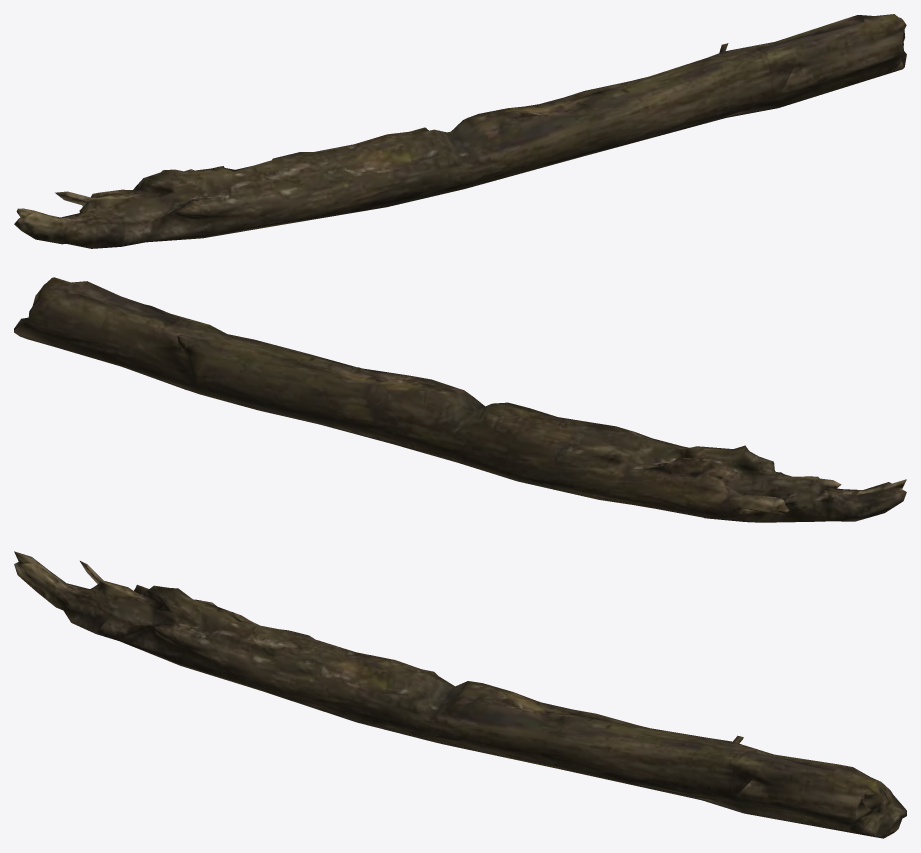
Rendered from logDead_lo.glb.
3 renders of one model, top to bottom at view 1: azimuth 30°, elevation 25°; view 2: azimuth 150°, elevation 25°; view 3: azimuth 330°, elevation 25°, orthographic.
Visible parts, largest first — view 1: dead_tree_trunk; view 2: dead_tree_trunk; view 3: dead_tree_trunk.
Boxes of the visible parts, bbox=[...] form: dead_tree_trunk: bbox=[14, 14, 906, 248]; dead_tree_trunk: bbox=[14, 277, 906, 522]; dead_tree_trunk: bbox=[14, 551, 906, 838].
Size of the model in its own units: 3.04 by 0.2847 by 0.2761.
Materials: 1 (1 with a texture image).
